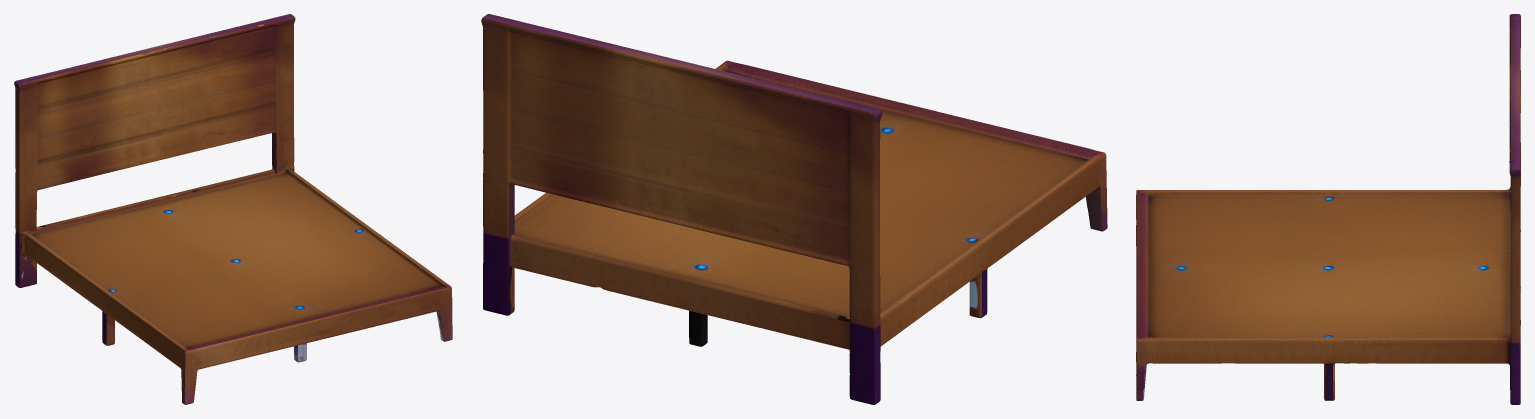
The model's file is bed__bed#4.glb.
3 renders of one model, left to right at view 1: azimuth 30°, elevation 25°; view 2: azimuth 150°, elevation 25°; view 3: azimuth 270°, elevation 25°, orthographic. The views are drawn at different scales.
Parts seen in each view (by area): view 1: tmp32fwj5vh.ply; view 2: tmp32fwj5vh.ply; view 3: tmp32fwj5vh.ply.
Boxes of the visible parts, x1,y1,x2,y2 form: tmp32fwj5vh.ply: (14, 14, 452, 404); tmp32fwj5vh.ply: (481, 14, 1107, 404); tmp32fwj5vh.ply: (1136, 14, 1520, 404).
Size of the model in its own units: 1.91 by 1.35 by 1.99.
1 material, 1 textured.
